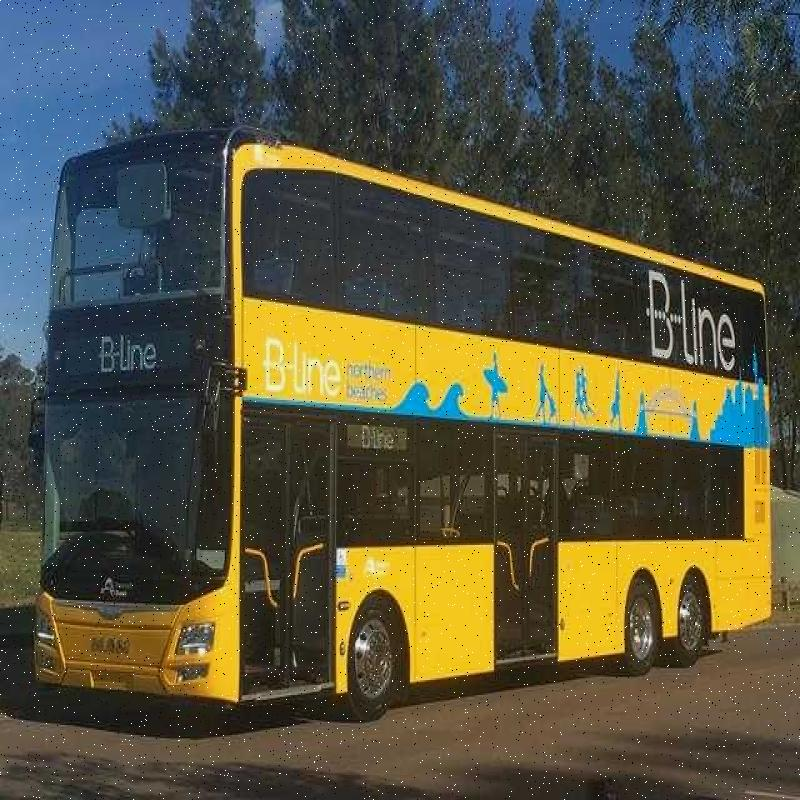bus: (36, 120, 800, 764)
